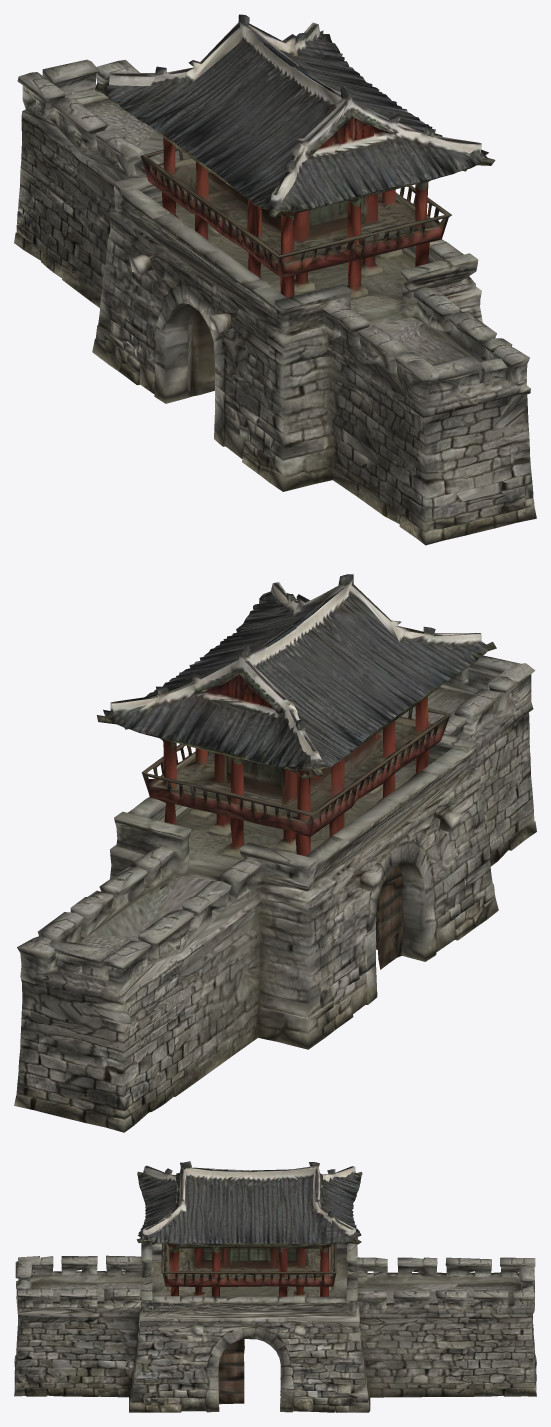
File: fortgate.glb
3 renders of one model, top to bottom at view 1: azimuth 30°, elevation 25°; view 2: azimuth 150°, elevation 25°; view 3: azimuth 270°, elevation 25°, orthographic. The views are drawn at different scales.
Parts seen in each view (by area): view 1: tripo_node_b82d6a51-6a0a-4f14-8401-884fccafcbde; view 2: tripo_node_b82d6a51-6a0a-4f14-8401-884fccafcbde; view 3: tripo_node_b82d6a51-6a0a-4f14-8401-884fccafcbde.
Part boxes in pixels (x1,y1,x2,y2): tripo_node_b82d6a51-6a0a-4f14-8401-884fccafcbde: [14, 14, 536, 545]; tripo_node_b82d6a51-6a0a-4f14-8401-884fccafcbde: [14, 574, 536, 1132]; tripo_node_b82d6a51-6a0a-4f14-8401-884fccafcbde: [14, 1161, 536, 1412].
Size of the model in its own units: 0.335 by 0.4509 by 0.981.
1 material, 1 textured.
